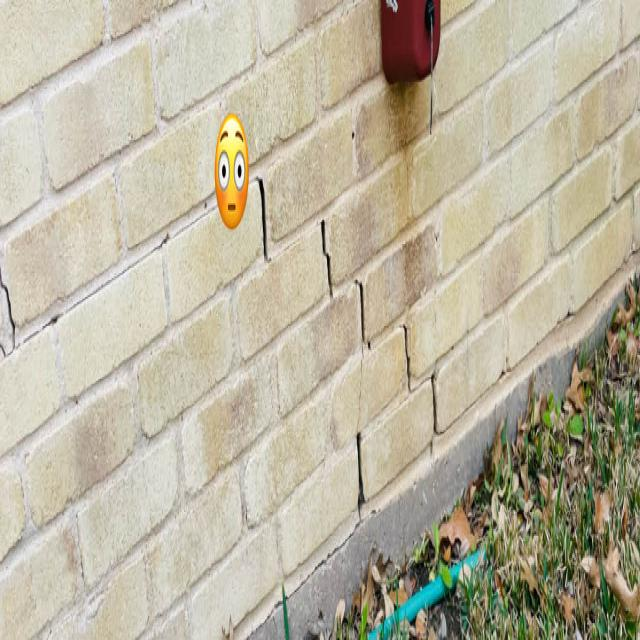Crack: (255, 170, 439, 434), (0, 266, 15, 342)
